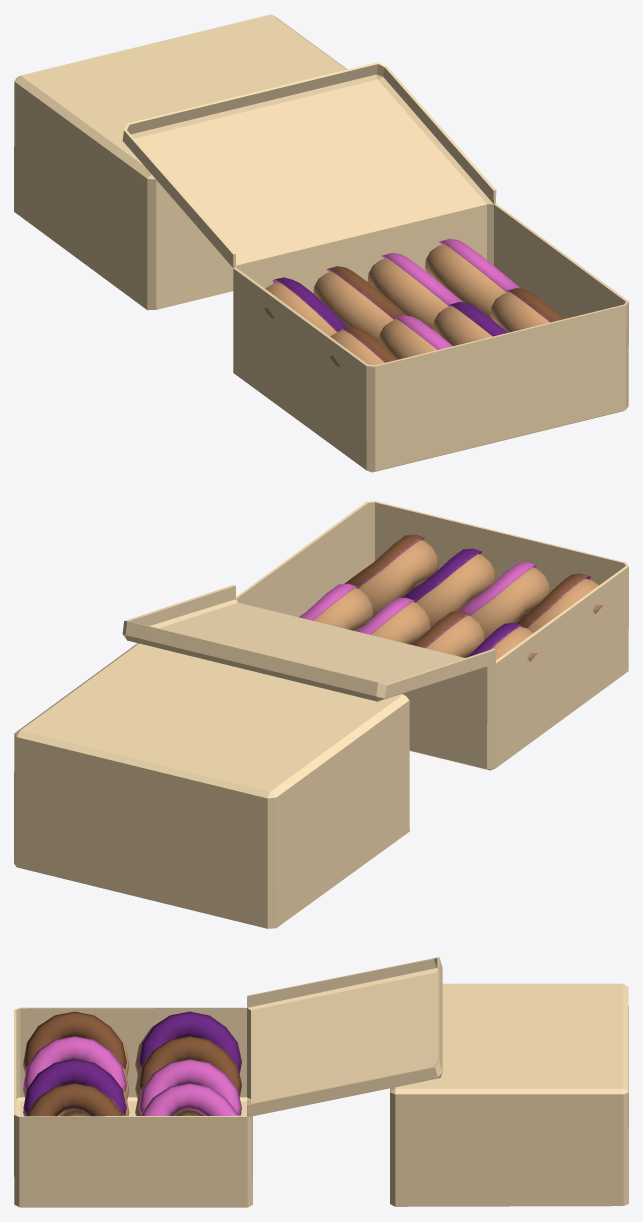
3 views of the same model, one above another, from view 1: azimuth 30°, elevation 25°; view 2: azimuth 150°, elevation 25°; view 3: azimuth 270°, elevation 25° (orthographic). The views are drawn at different scales.
Visible parts, largest first — view 1: box, donuts, glaze; view 2: box, donuts, glaze; view 3: box, glaze, donuts.
Boxes of the visible parts, box(x1,y1,x2,y2) form: box: box(14, 14, 628, 472); donuts: box(264, 244, 549, 367); glaze: box(272, 238, 565, 362); box: box(14, 501, 628, 928); donuts: box(313, 540, 602, 661); glaze: box(299, 534, 590, 657); box: box(14, 957, 628, 1207); glaze: box(23, 1011, 241, 1116); donuts: box(23, 1022, 241, 1116).
Size of the model in its own units: 345 by 213 by 813.
1 material, 1 textured.
